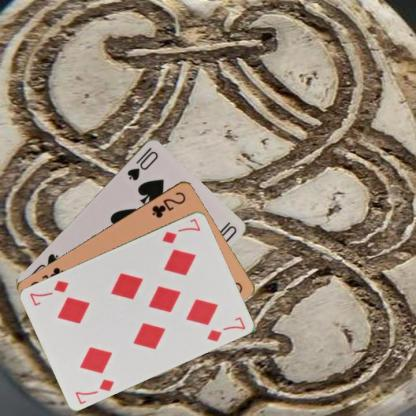10s: (124, 144, 160, 182)
2c: (149, 188, 187, 219)
7d: (72, 376, 116, 405), (160, 215, 202, 245)
